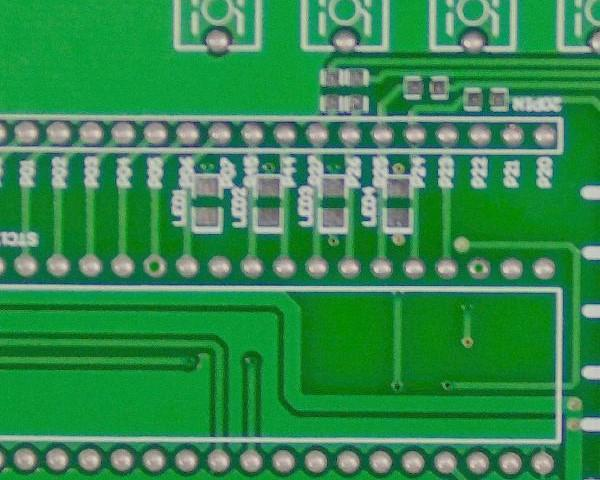missing hole: (464, 252, 496, 282), (139, 250, 170, 279)
